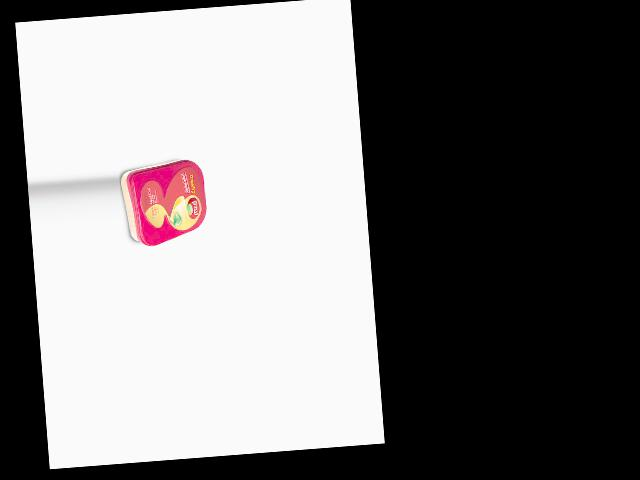cheese: (119, 158, 209, 248)
